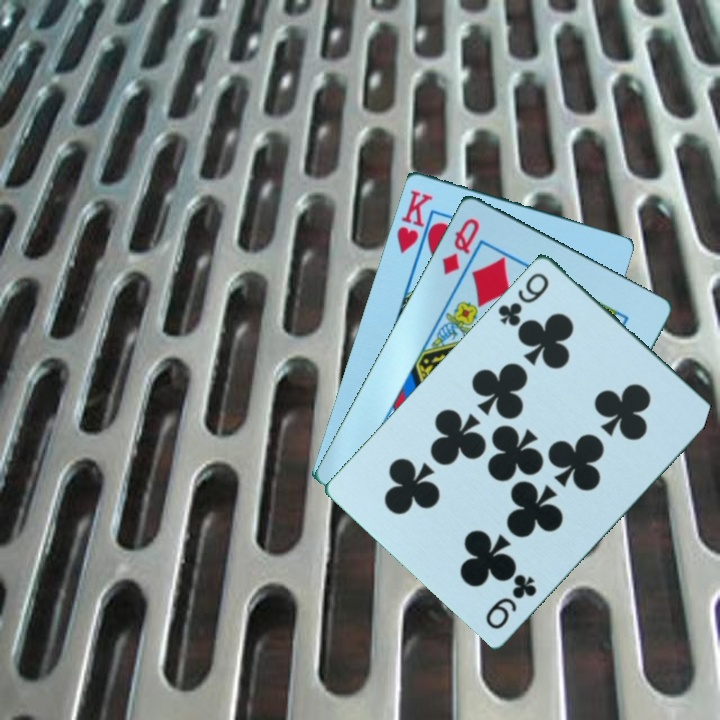9c: (481, 571, 540, 632), (494, 268, 552, 329)
Kh: (392, 186, 435, 256)
Qd: (438, 214, 483, 278)
